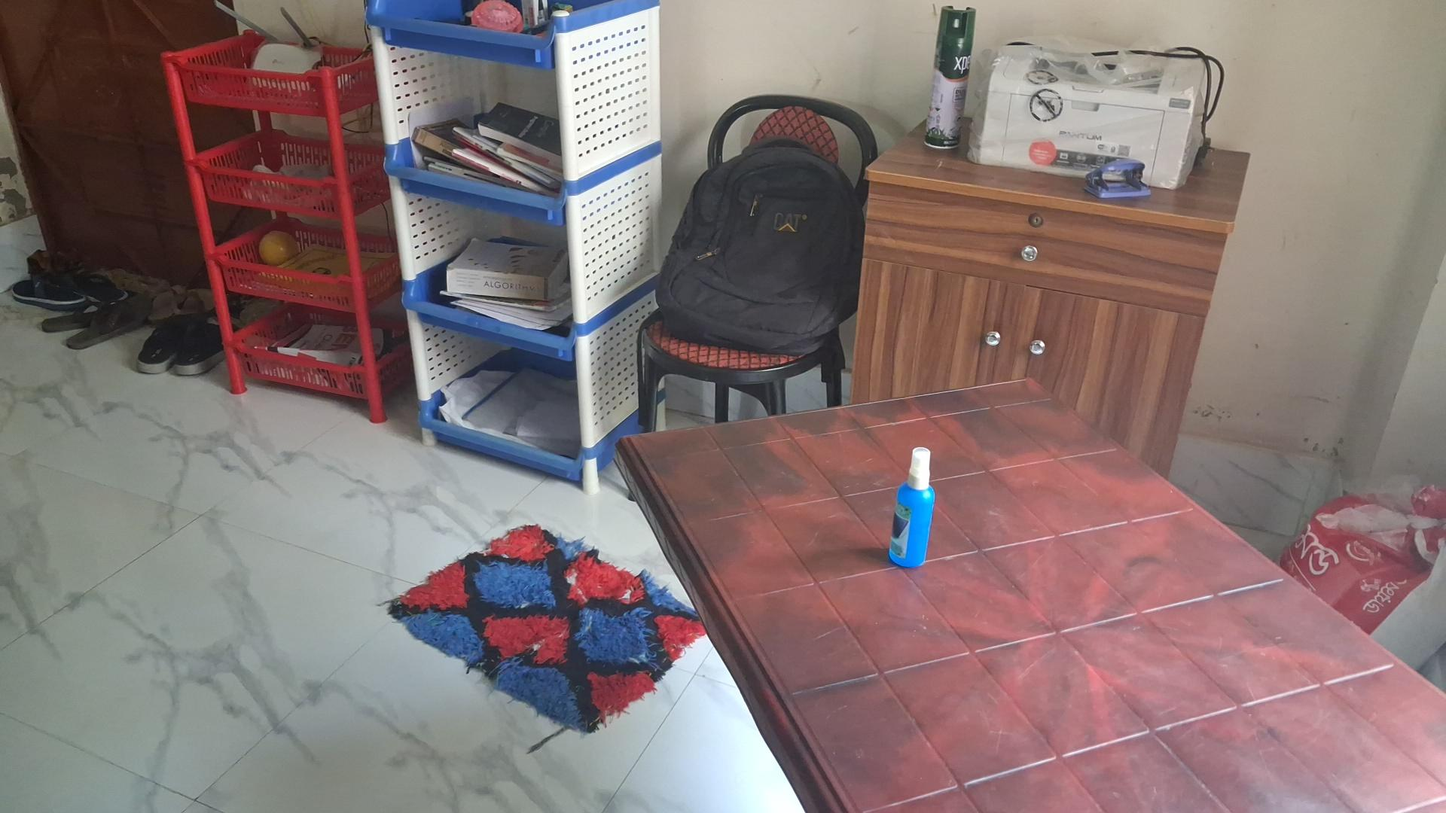Bag: (661, 148, 863, 349), (1288, 497, 1446, 666)
Book: (442, 235, 572, 302)
Bottle: (915, 12, 976, 158), (887, 446, 936, 569)
Chair: (633, 99, 874, 440)
Floor Mat: (393, 522, 704, 728)
Footwear: (135, 313, 227, 376), (11, 271, 128, 313)
Rack: (369, 0, 666, 490), (158, 35, 410, 423)
Table: (612, 376, 1446, 813)
